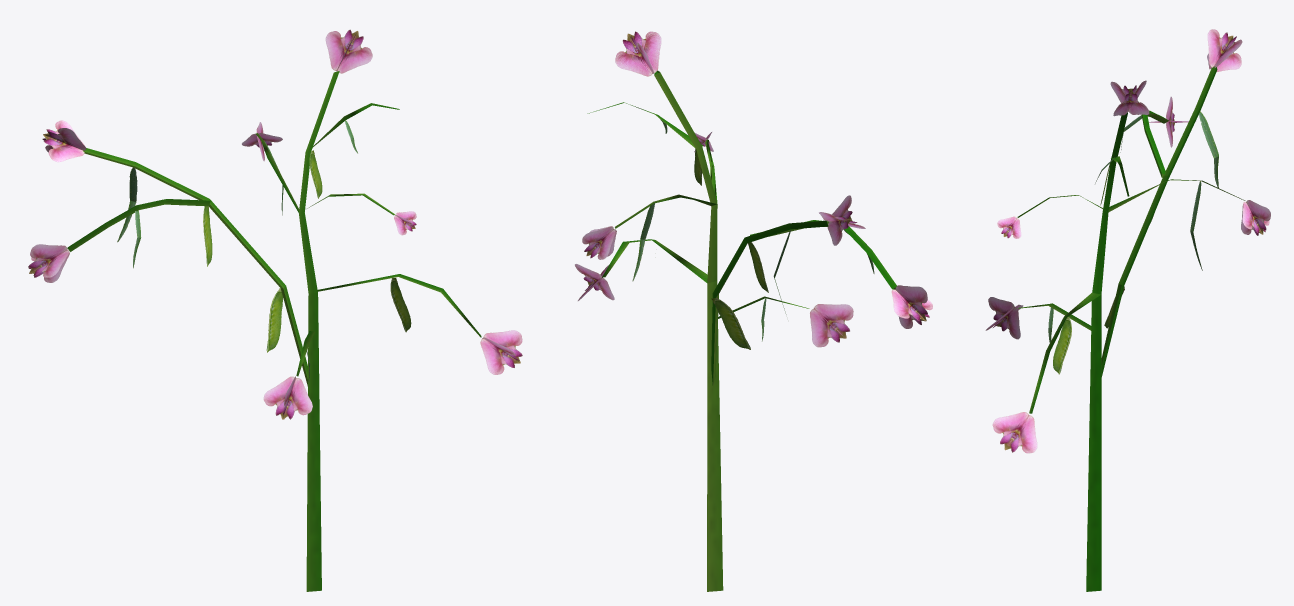
File: Model_Plant_03.fbx
3 views of the same model, side by side, from view 1: azimuth 30°, elevation 25°; view 2: azimuth 150°, elevation 25°; view 3: azimuth 270°, elevation 25° (orthographic). The views are drawn at different scales.
Visible parts, largest first — view 1: Beans; view 2: Beans; view 3: Beans.
Boxes of the visible parts, box(x1,y1,x2,y2) form: Beans: box(28, 29, 522, 591); Beans: box(575, 31, 932, 591); Beans: box(985, 29, 1270, 591).
Bounding box in the file's own units: 50.44 × 59.32 × 29.9.
